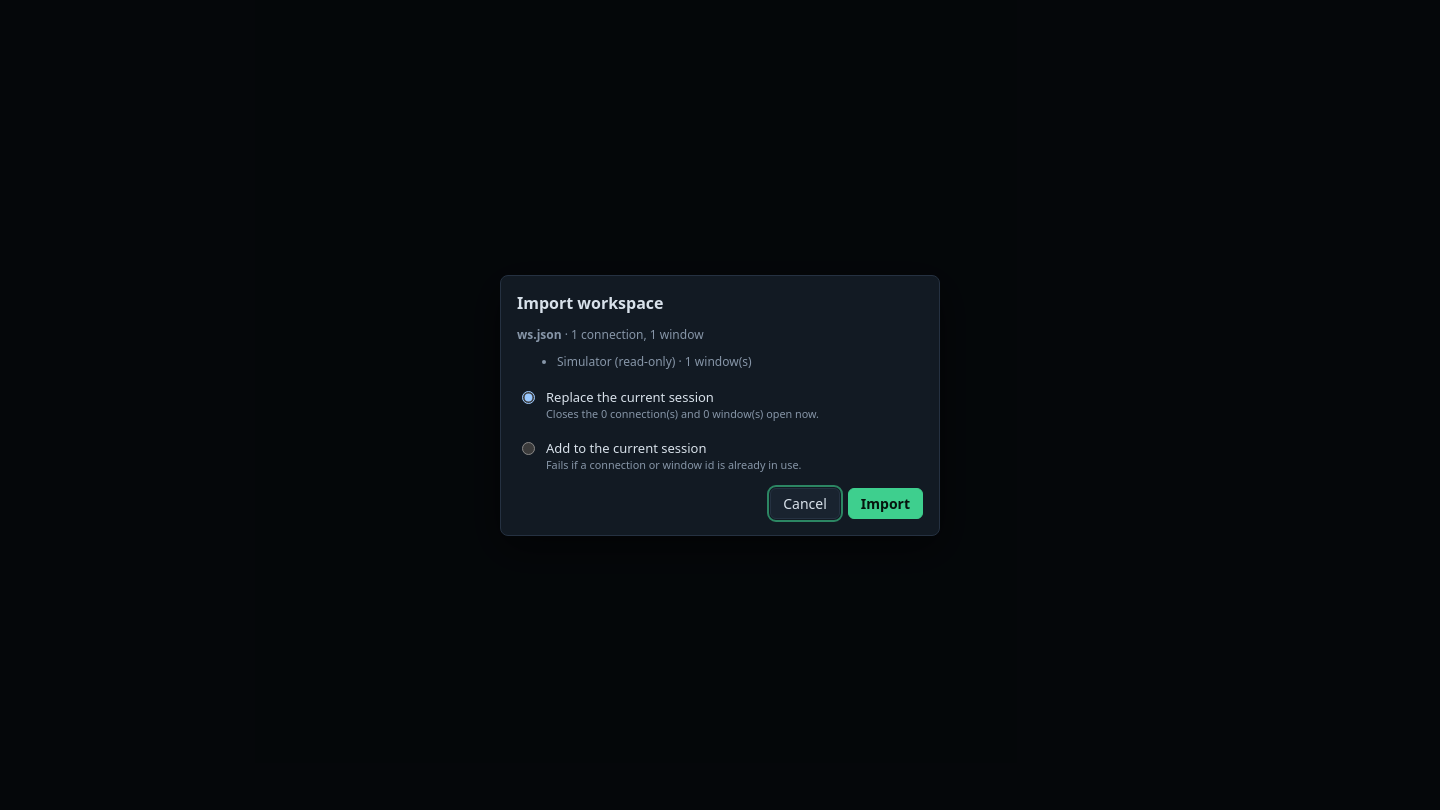
Test: workspace import › shows server errors such as ids in use
Check: the text "ws.json · 1 connection, 1 window" is shown, box [517,326,704,342]
Click the button "Import".
click(885, 503)  # box [848,488,923,518]
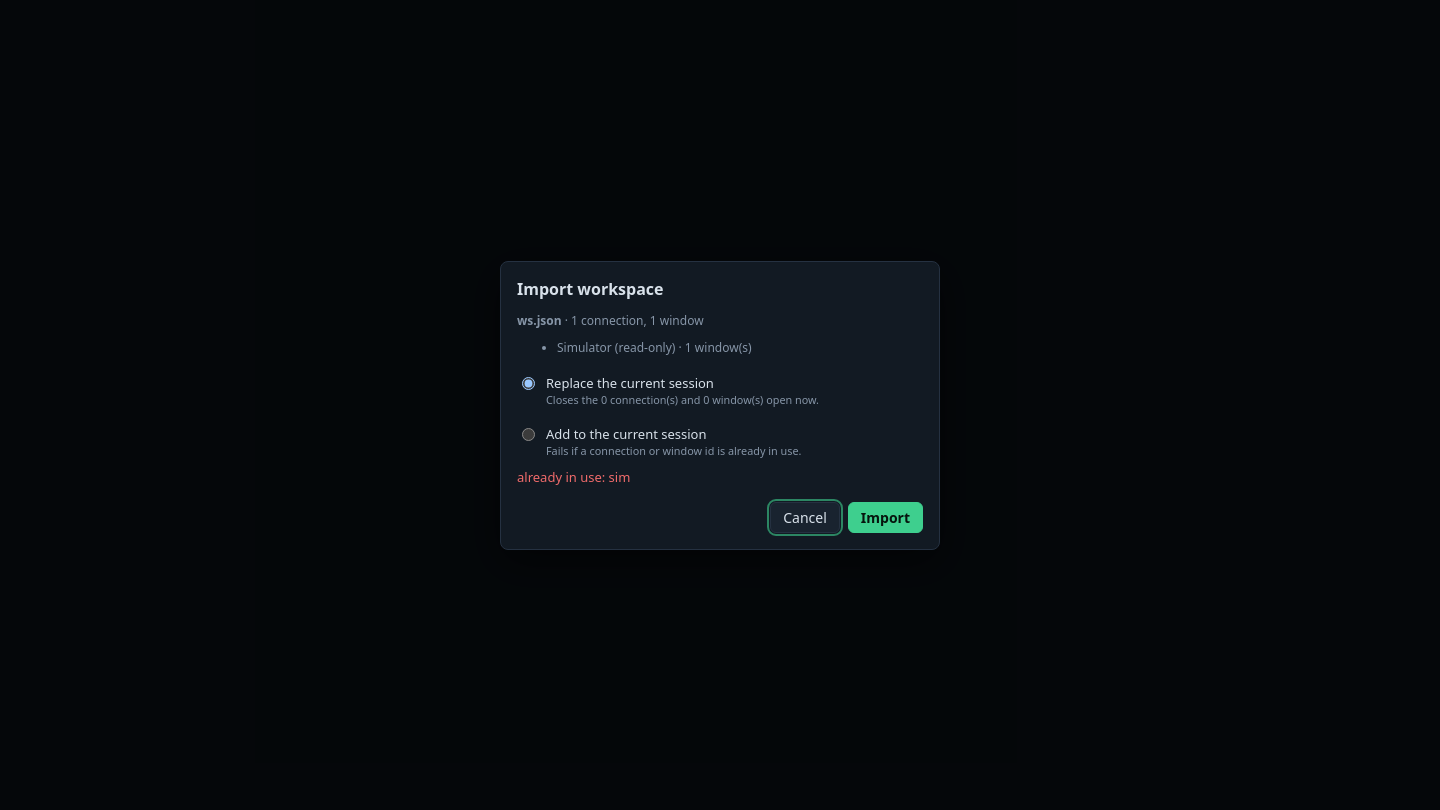
Check: the message reads "already in use: sim", box [517,468,630,486]
